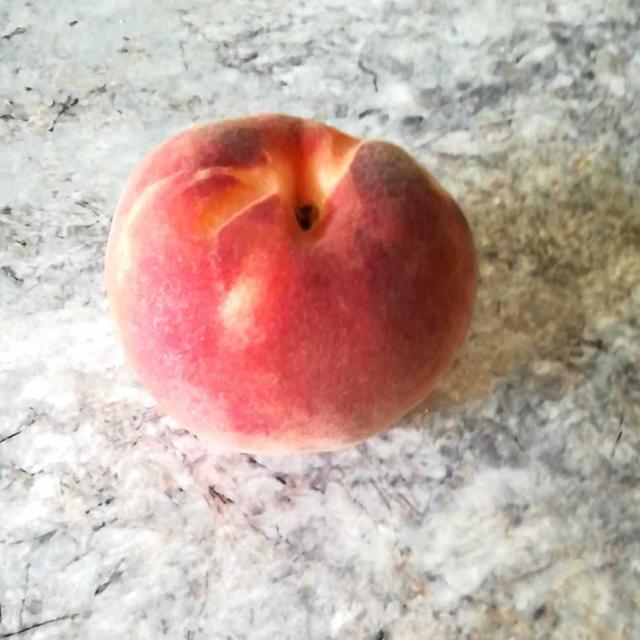peach: (106, 118, 476, 447)
